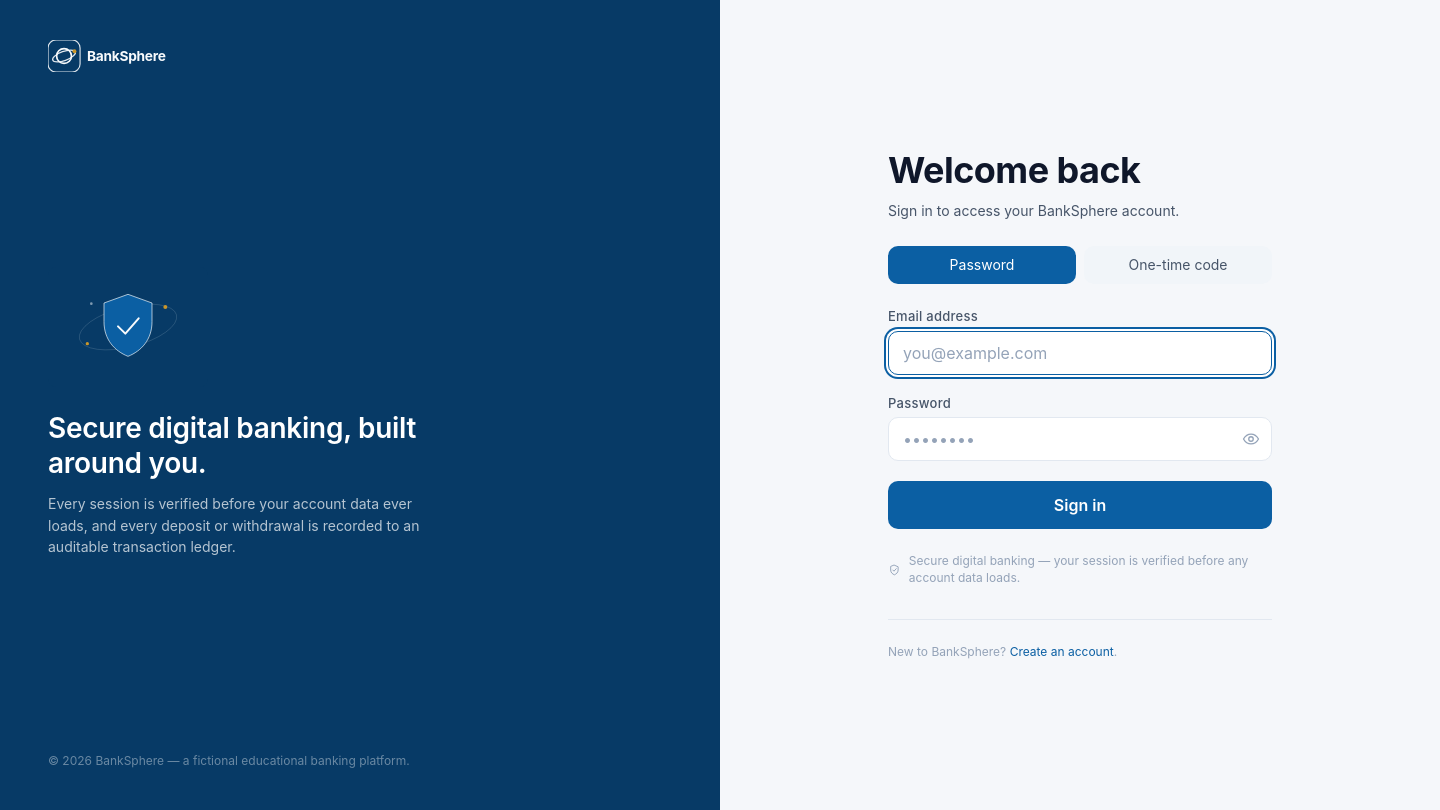
Test: Login page › shows a generic error for an invalid OTP, matching the backend's own generic message
Click the tab "One-time code" at (1178, 265), box left=1084, top=246, right=1272, bottom=284
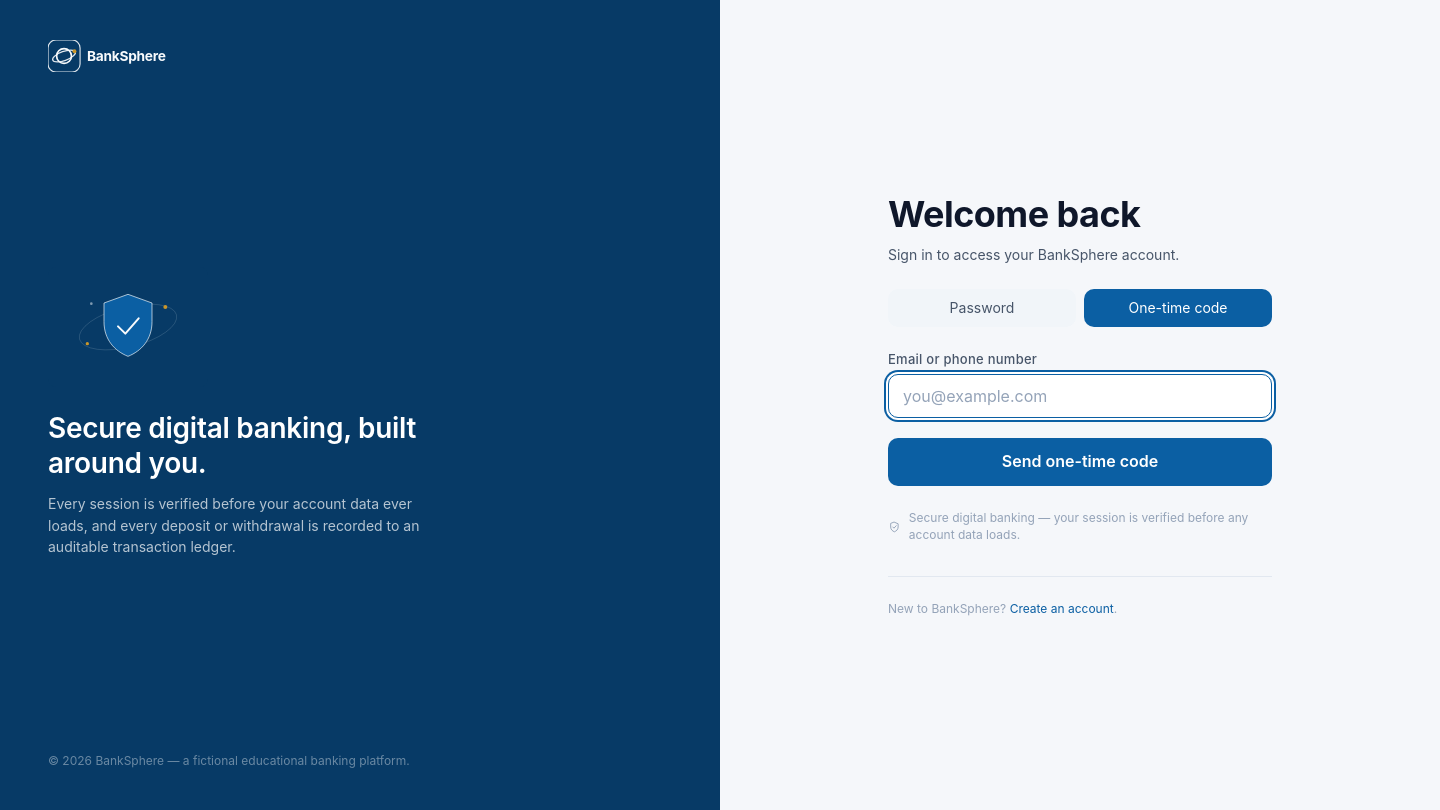
Type "jane.doe@example.com" into the field labelled "Email or phone number" at (1080, 396), box left=888, top=374, right=1272, bottom=418
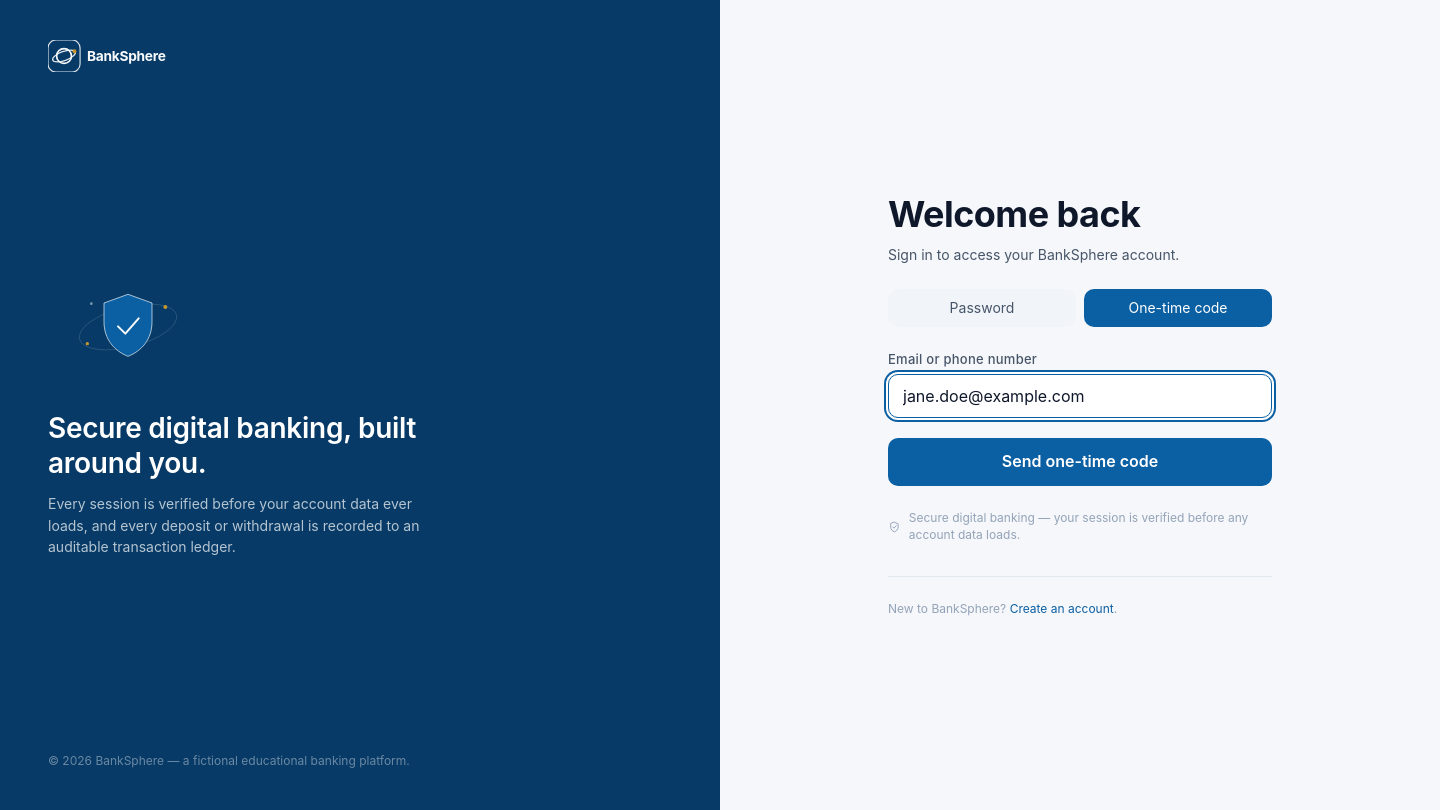
Click the button "Send one-time code" at (1080, 462), box left=888, top=438, right=1272, bottom=486
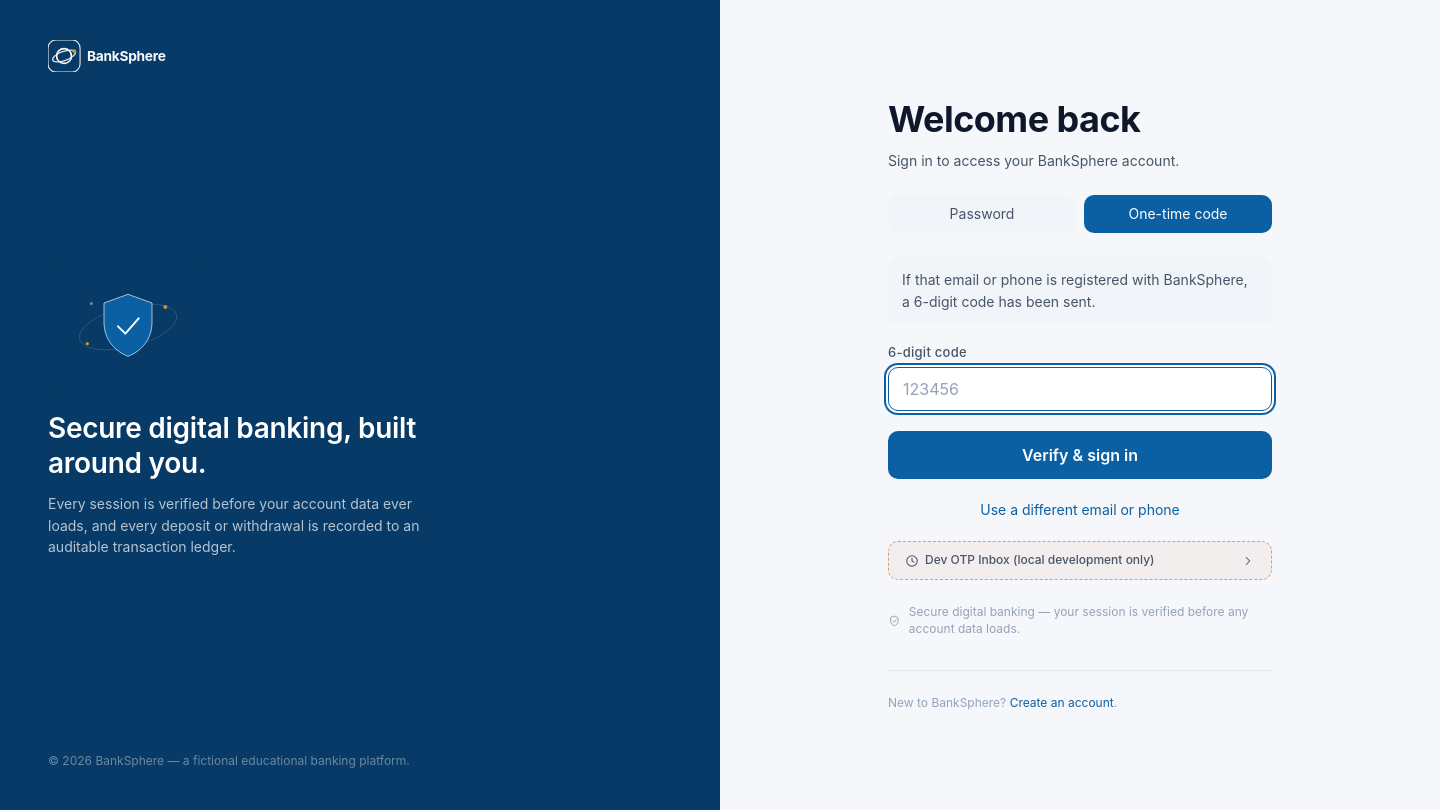
Now the field labelled "6-digit code" is shown
Type "000000" into the field labelled "6-digit code" at (1080, 389), box left=888, top=367, right=1272, bottom=411
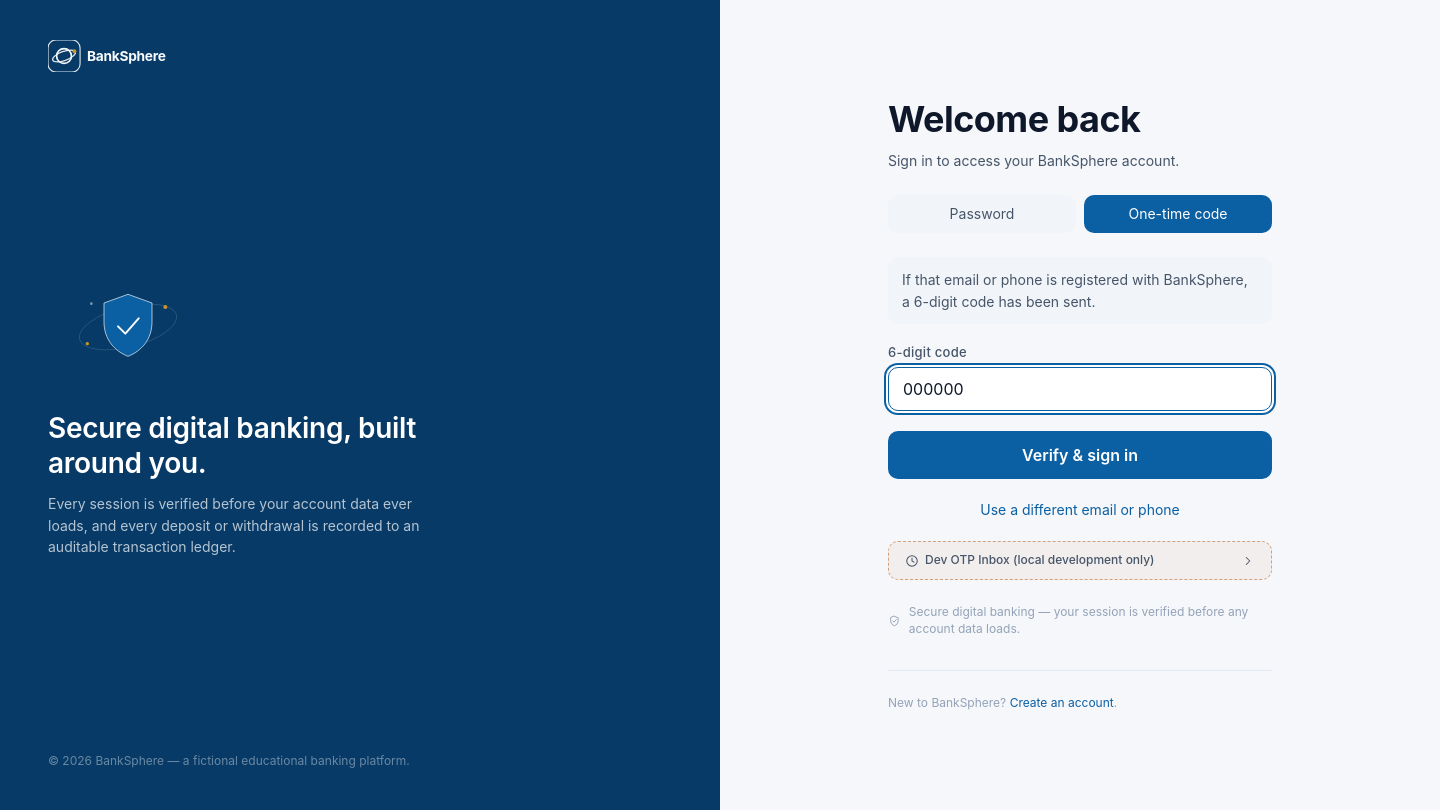
Click the button "Verify & sign in" at (1080, 455), box left=888, top=431, right=1272, bottom=479
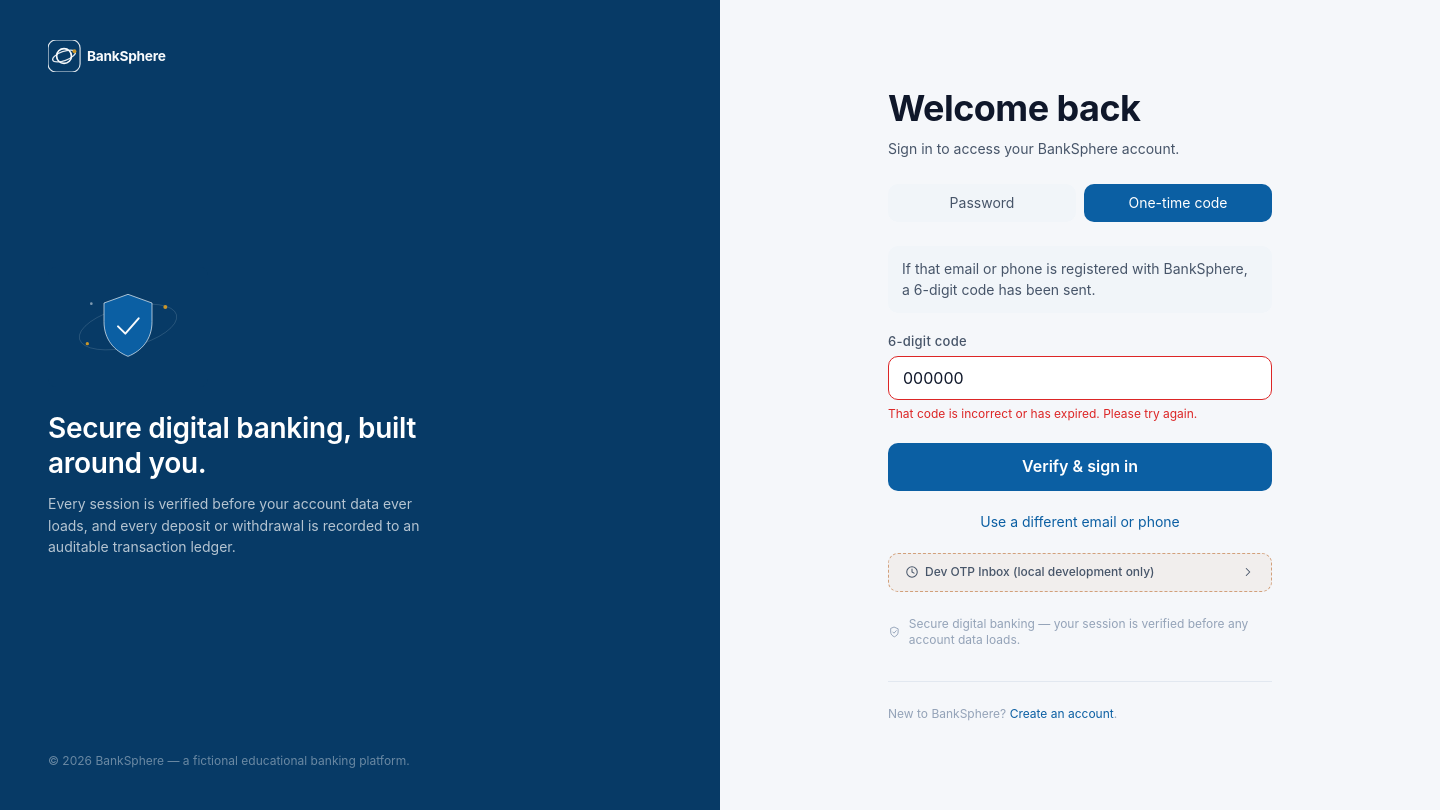
Now the text "That code is incorrect or has expired. Please try again." is shown, box left=888, top=406, right=1197, bottom=421
